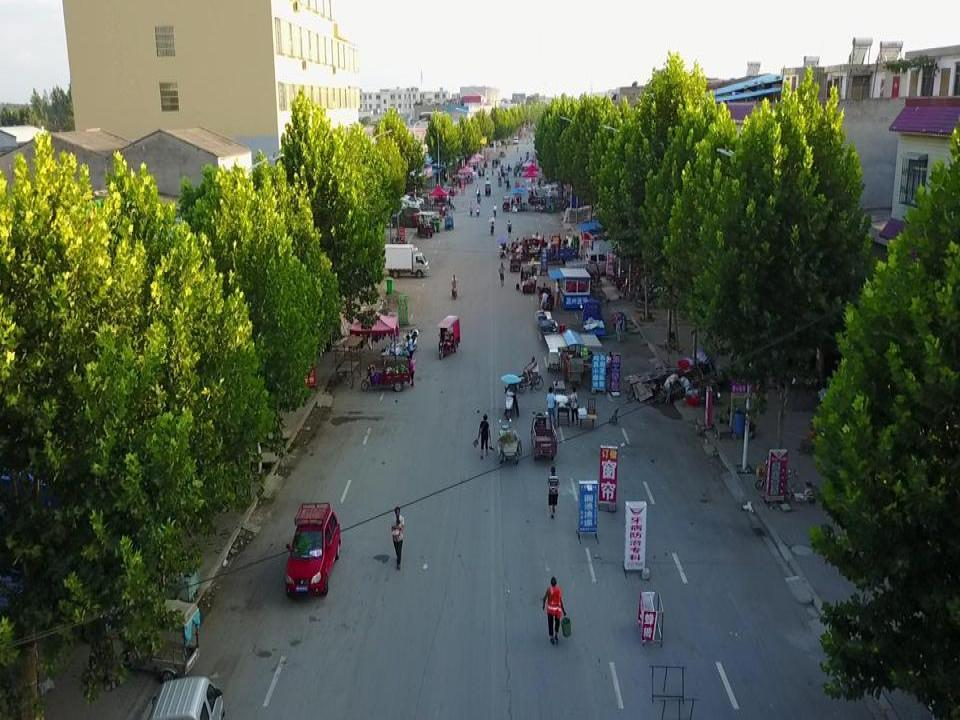car: (285, 501, 341, 599)
truck: (383, 242, 430, 278), (564, 251, 613, 278)
